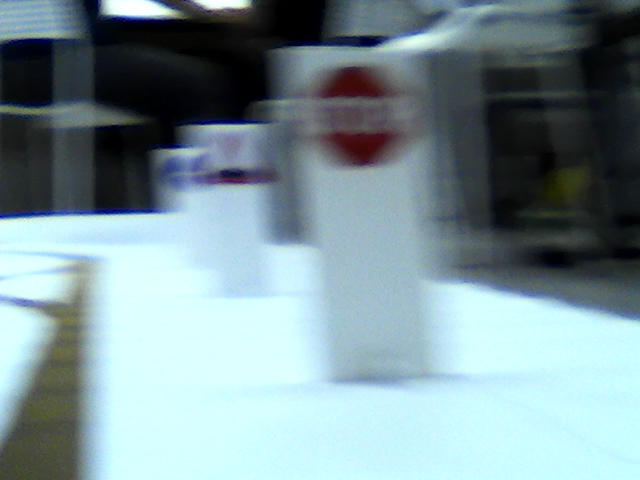Stop: (310, 61, 410, 161)
